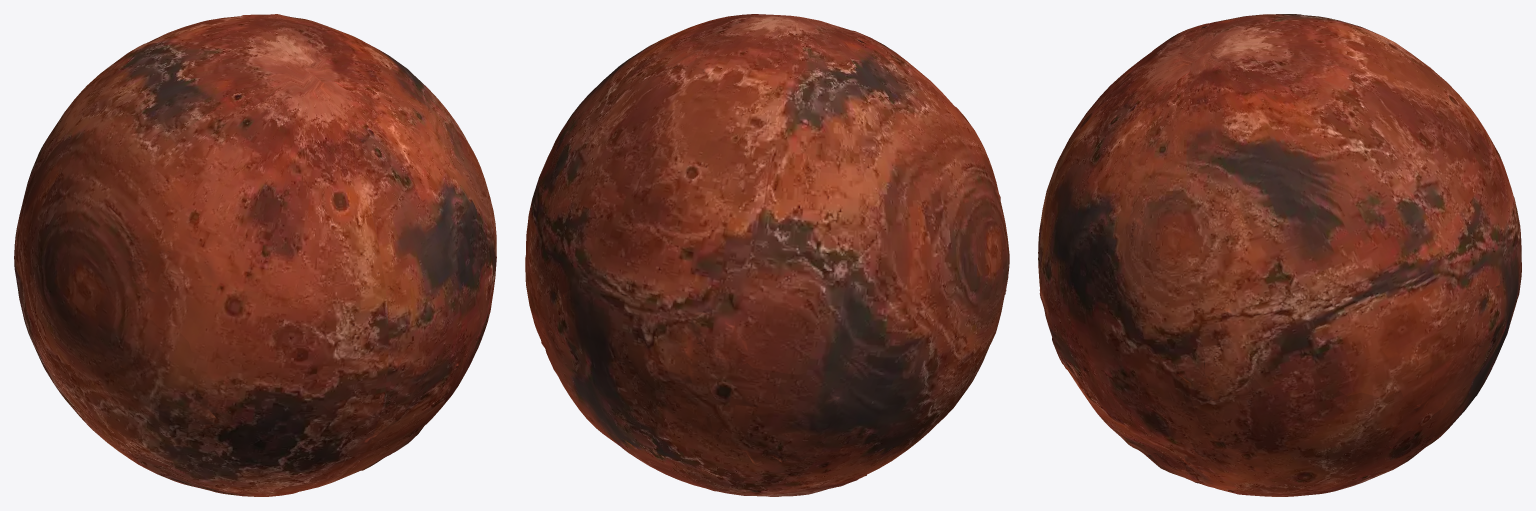
Rendered from planet_16.glb.
3 views of the same model, side by side, from view 1: azimuth 30°, elevation 25°; view 2: azimuth 150°, elevation 25°; view 3: azimuth 270°, elevation 25° (orthographic).
Visible parts, largest first — view 1: Mesh_0.001; view 2: Mesh_0.001; view 3: Mesh_0.001.
Boxes of the visible parts, <box> form: Mesh_0.001: <box>14,14,496,496</box>; Mesh_0.001: <box>525,14,1009,496</box>; Mesh_0.001: <box>1038,14,1521,496</box>.
Size of the model in its own units: 1.9 by 1.9 by 1.9.
Materials: 1 (1 with a texture image).
